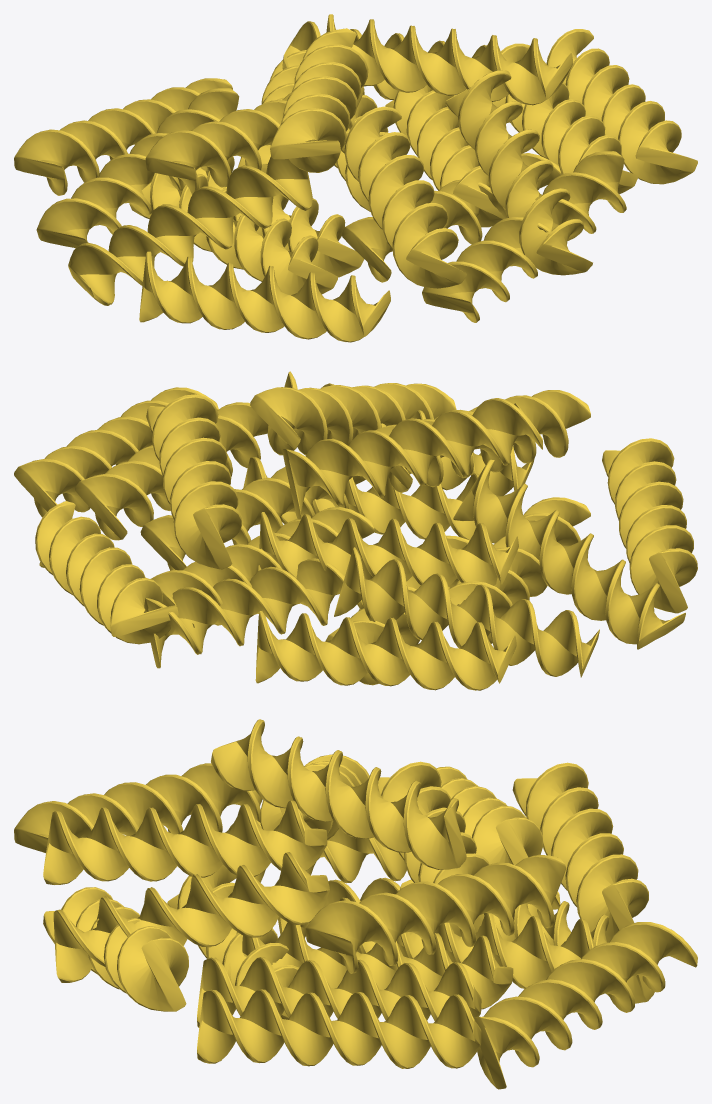
File: tas_de_pates.fbx
The picture shows the model from 3 angles, top to bottom: view 1: azimuth 30°, elevation 25°; view 2: azimuth 150°, elevation 25°; view 3: azimuth 270°, elevation 25°; orthographic projection. The views are drawn at different scales.
Visible parts, largest first — view 1: Плоскость.014, Плоскость.011, Плоскость.006, Плоскость.005, Плоскость.018, Плоскость.012, Плоскость.015, Плоскость.017, Плоскость.013, Плоскость.009, Плоскость.010, Плоскость.001 (+7 smaller); view 2: Плоскость.009, Плоскость.015, Плоскость.013, Плоскость.014, Плоскость.012, Плоскость.011, Плоскость.008, Плоскость.010, Плоскость.005, Плоскость.016, Плоскость.007, Плоскость.018 (+7 smaller); view 3: Плоскость.018, Плоскость.006, Плоскость.012, Плоскость.015, Плоскость.008, Плоскость.005, Плоскость.009, Плоскость.011, Плоскость.007, Плоскость.017, Плоскость.004, Плоскость.003 (+7 smaller).
Boxes of the visible parts, x1=… form: Плоскость.014: x1=68, y1=157, x2=312, y2=305; Плоскость.011: x1=139, y1=251, x2=390, y2=342; Плоскость.006: x1=341, y1=106, x2=466, y2=288; Плоскость.005: x1=445, y1=70, x2=592, y2=275; Плоскость.018: x1=546, y1=29, x2=697, y2=184; Плоскость.012: x1=326, y1=14, x2=573, y2=105; Плоскость.015: x1=270, y1=28, x2=368, y2=172; Плоскость.017: x1=422, y1=151, x2=626, y2=322; Плоскость.013: x1=36, y1=88, x2=239, y2=248; Плоскость.009: x1=14, y1=78, x2=232, y2=195; Плоскость.010: x1=145, y1=86, x2=364, y2=194; Плоскость.001: x1=129, y1=173, x2=337, y2=295; Плоскость.009: x1=255, y1=611, x2=516, y2=690; Плоскость.015: x1=282, y1=398, x2=542, y2=519; Плоскость.013: x1=334, y1=547, x2=599, y2=677; Плоскость.014: x1=453, y1=459, x2=685, y2=649; Плоскость.012: x1=146, y1=394, x2=241, y2=569; Плоскость.011: x1=602, y1=438, x2=697, y2=613; Плоскость.008: x1=35, y1=501, x2=178, y2=644; Плоскость.010: x1=258, y1=512, x2=518, y2=586; Плоскость.005: x1=250, y1=383, x2=456, y2=455; Плоскость.016: x1=144, y1=558, x2=372, y2=668; Плоскость.007: x1=75, y1=402, x2=268, y2=540; Плоскость.018: x1=14, y1=387, x2=218, y2=517; Плоскость.018: x1=197, y1=989, x2=481, y2=1068; Плоскость.006: x1=43, y1=800, x2=327, y2=884; Плоскость.012: x1=306, y1=854, x2=566, y2=973; Плоскость.015: x1=211, y1=719, x2=466, y2=869; Плоскость.008: x1=473, y1=922, x2=697, y2=1089; Плоскость.005: x1=53, y1=852, x2=329, y2=982; Плоскость.009: x1=512, y1=762, x2=648, y2=942; Плоскость.011: x1=14, y1=763, x2=262, y2=853; Плоскость.007: x1=197, y1=957, x2=481, y2=1027; Плоскость.017: x1=43, y1=887, x2=188, y2=1011; Плоскость.004: x1=227, y1=922, x2=513, y2=1009; Плоскость.003: x1=339, y1=897, x2=596, y2=988.
Size of the model in its own units: 77.25 by 24.34 by 71.48.
